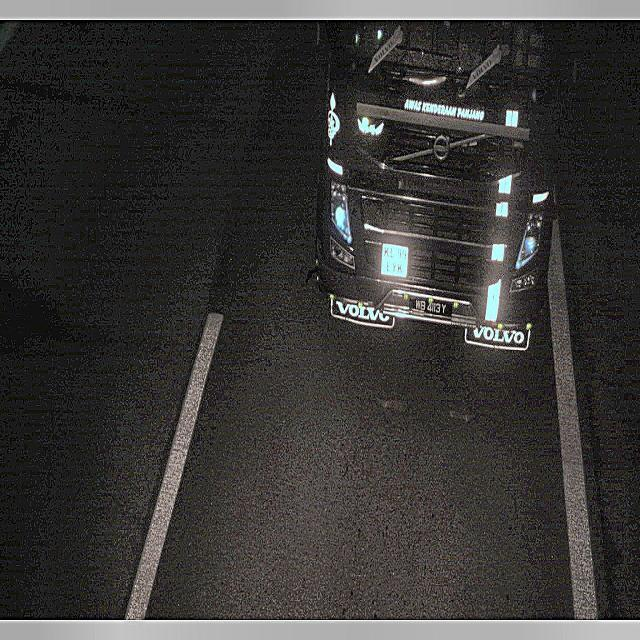car: (404, 287, 459, 326)
